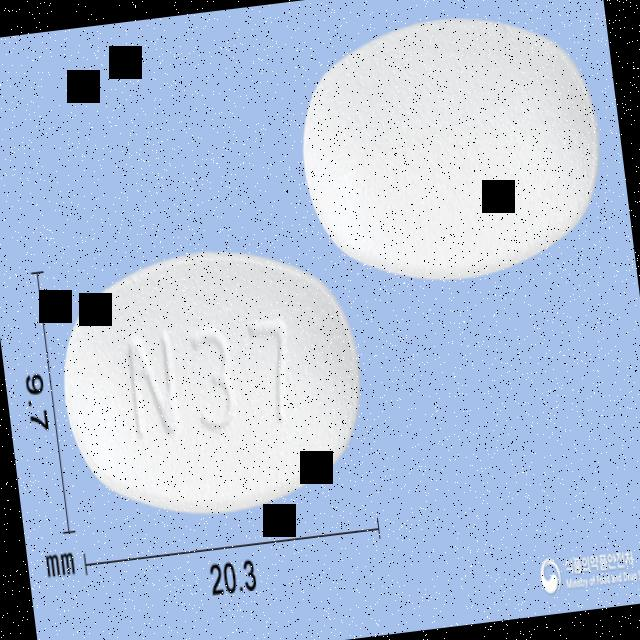Moxiclen Tab-625mg: (48, 230, 374, 532)
